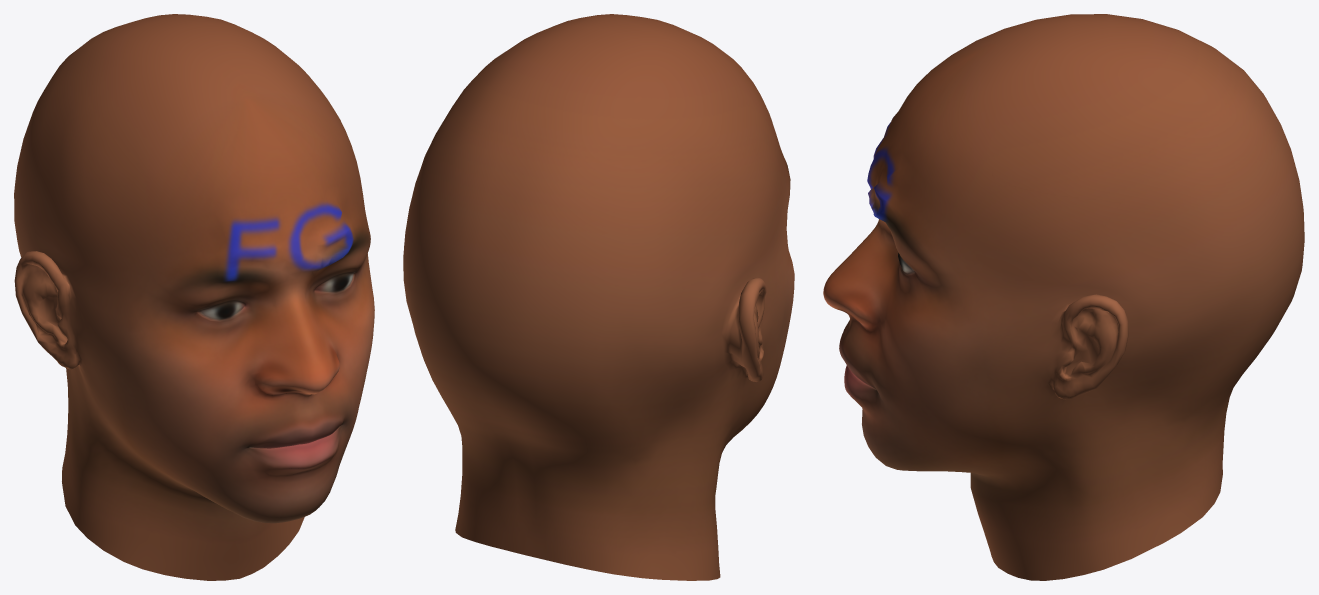
File: avg_african_male.obj
The picture shows the model from 3 angles, left to right: view 1: azimuth 30°, elevation 25°; view 2: azimuth 150°, elevation 25°; view 3: azimuth 270°, elevation 25°; orthographic projection. The views are drawn at different scales.
Parts seen in each view (by area): view 1: HeadHires; view 2: HeadHires; view 3: HeadHires.
Part boxes in pixels (x1,y1,x2,y2): HeadHires: (14, 14, 374, 580); HeadHires: (403, 14, 794, 580); HeadHires: (823, 14, 1304, 580).
Bounding box in the file's own units: 188 × 283 × 234.
3 materials, 3 textured.
